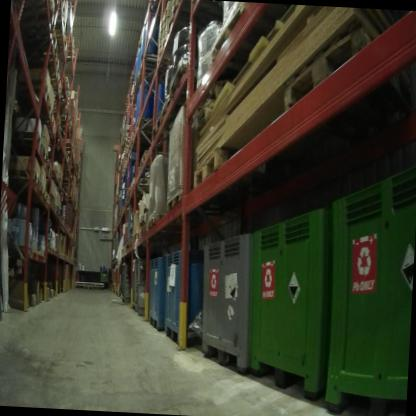pallet: (284, 18, 412, 137), (191, 143, 305, 202), (210, 2, 274, 68), (166, 60, 215, 105), (164, 189, 212, 219), (157, 94, 202, 126), (18, 0, 59, 32), (9, 75, 51, 104), (146, 214, 196, 238), (21, 53, 62, 81), (26, 27, 63, 57), (136, 146, 174, 171), (9, 124, 43, 151), (150, 116, 184, 142), (18, 99, 52, 122), (6, 165, 40, 187), (170, 0, 195, 29), (137, 51, 159, 81), (132, 117, 157, 141), (47, 4, 68, 31), (129, 176, 153, 194), (43, 77, 64, 96), (54, 32, 69, 56), (62, 39, 79, 60), (39, 118, 58, 136), (57, 74, 72, 96), (147, 0, 167, 14), (42, 188, 56, 206), (127, 68, 141, 86), (56, 116, 72, 129), (41, 143, 49, 165), (140, 219, 149, 237), (133, 226, 141, 245), (38, 184, 47, 199), (44, 192, 51, 205), (46, 161, 52, 176), (84, 283, 94, 292), (123, 240, 130, 252), (119, 244, 125, 256), (128, 235, 134, 246)
stillage: (132, 256, 154, 323), (120, 260, 136, 305), (129, 256, 140, 314)
